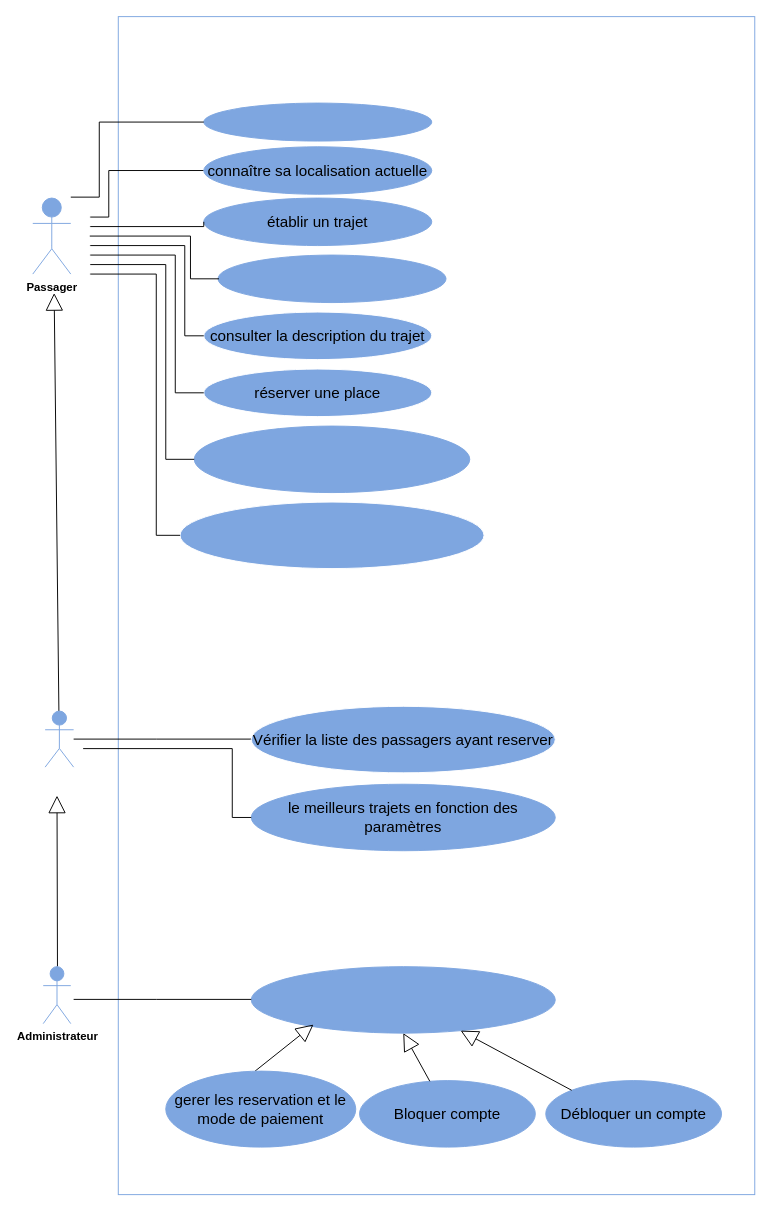
Some shapes in this 771 by 1211 pixel diagram are drawn without their labels. Here are the shapes that lost their labels. From the top down, the centre of each, then its label:
the point at 317,121: S'authentifier
the point at 331,278: effectuer un choix du mode transport
the point at 331,459: consulter les transport en commun et places disponibles
the point at 331,535: découvrir les lieux de la ville ( catalogue zone touristique)
the point at 59,738: Chauffeur
the point at 402,999: Gerer les utilisateurs et leur information
